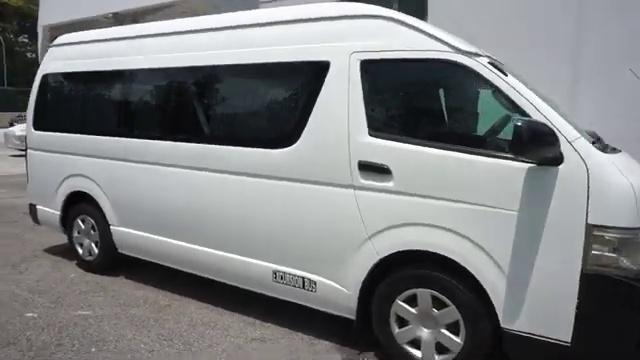Van: (22, 24, 636, 346)
